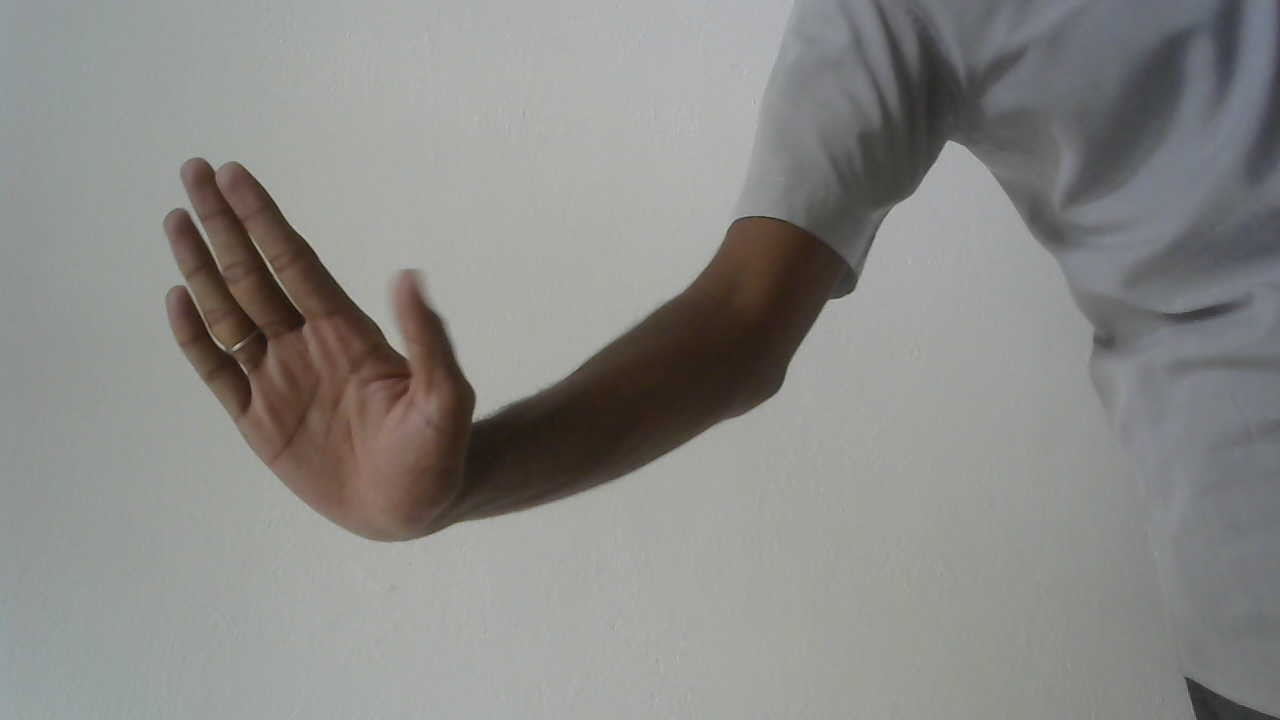hello: (152, 148, 493, 553)
